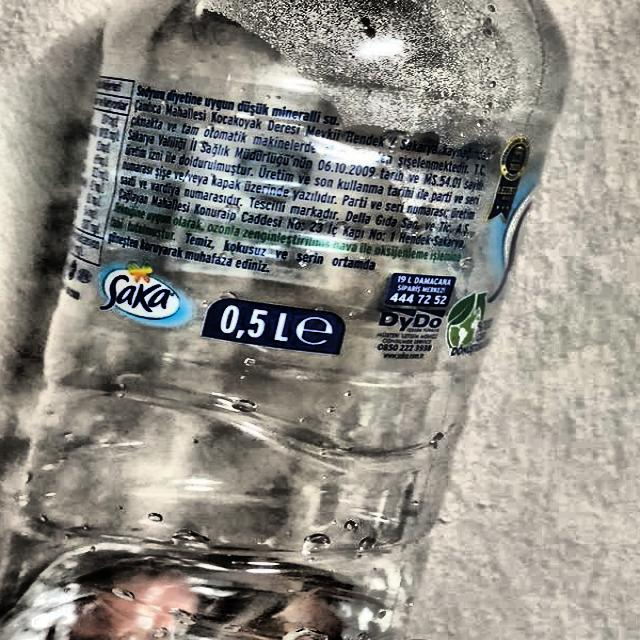plastic: (0, 0, 581, 640)
